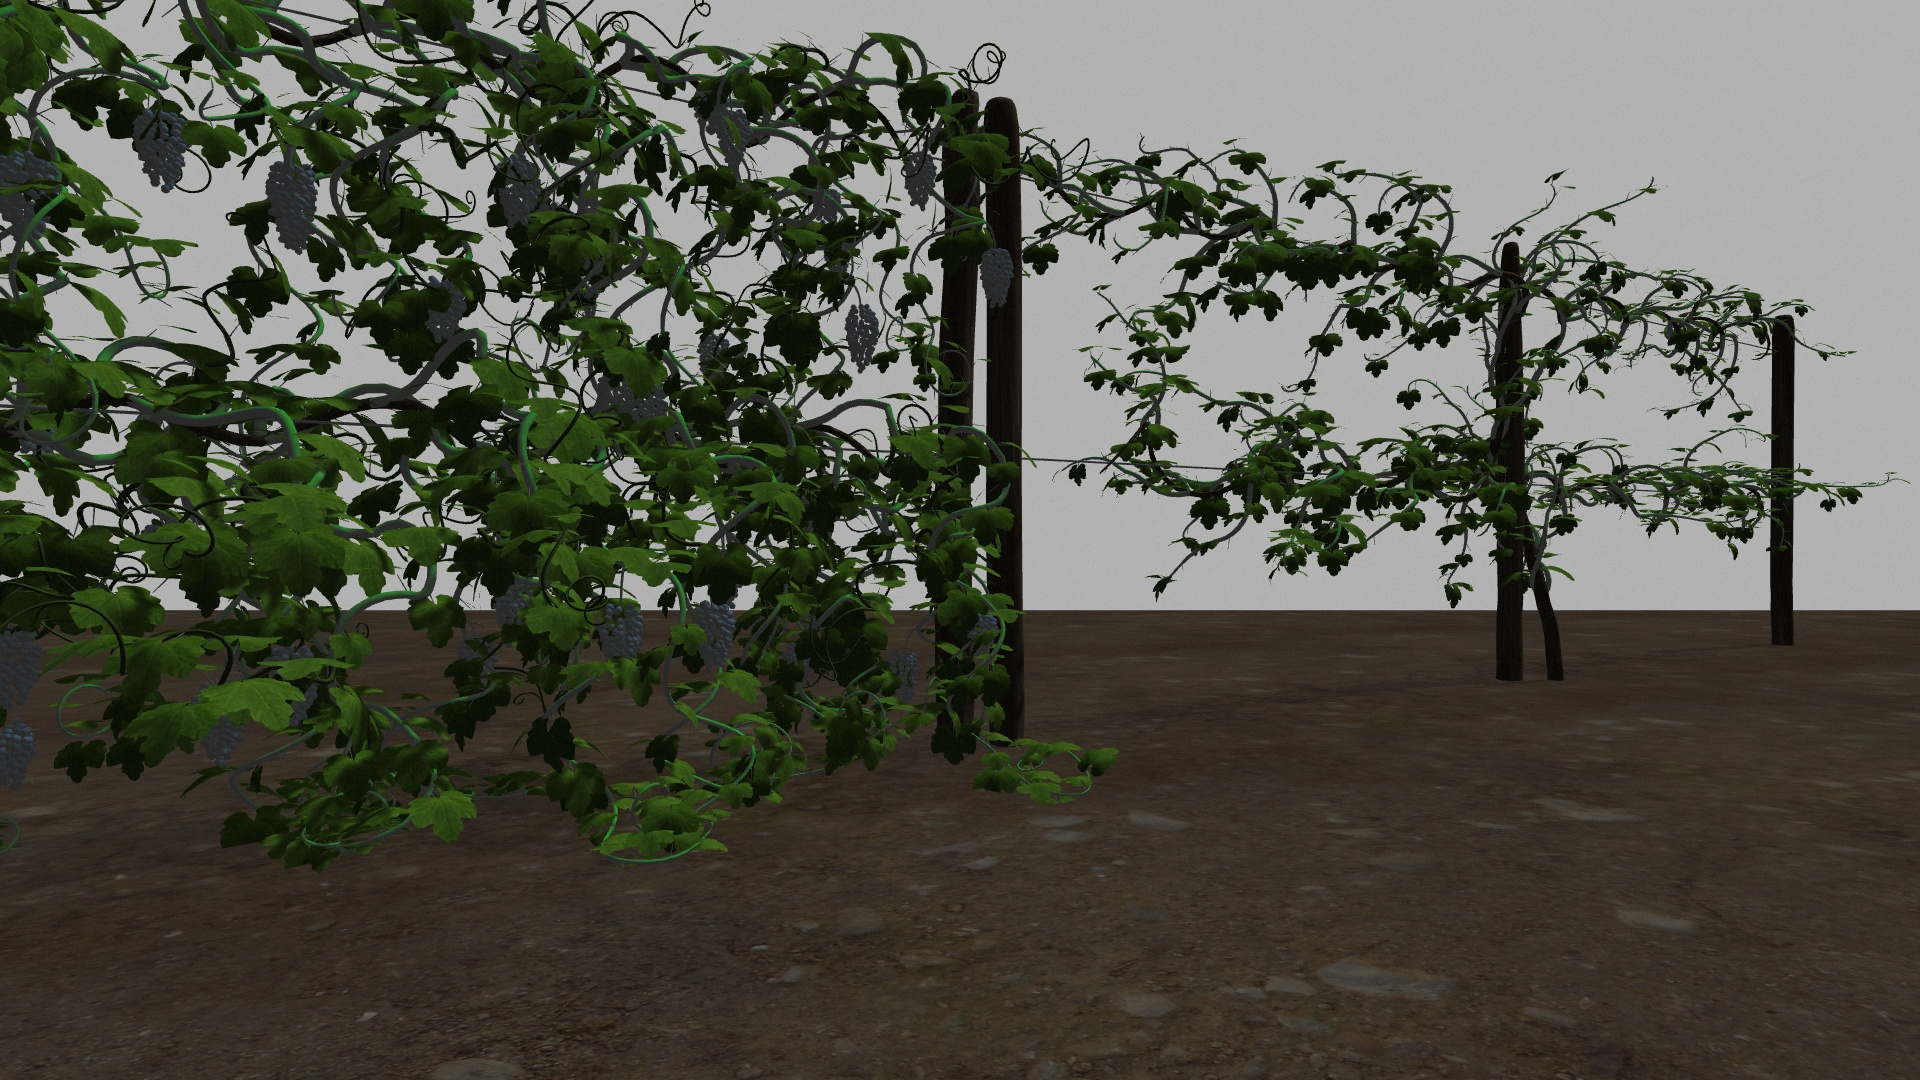grape: (131, 104, 189, 194), (266, 160, 319, 255), (4, 152, 55, 239), (684, 599, 735, 676), (595, 597, 645, 663), (498, 156, 542, 231), (4, 632, 45, 708), (707, 108, 752, 166), (844, 301, 880, 373), (426, 277, 465, 342), (978, 247, 1015, 311), (4, 720, 36, 789), (615, 385, 669, 425), (200, 717, 241, 769), (903, 153, 938, 212), (492, 582, 533, 625), (887, 651, 920, 702), (968, 613, 998, 662), (698, 331, 731, 364)
